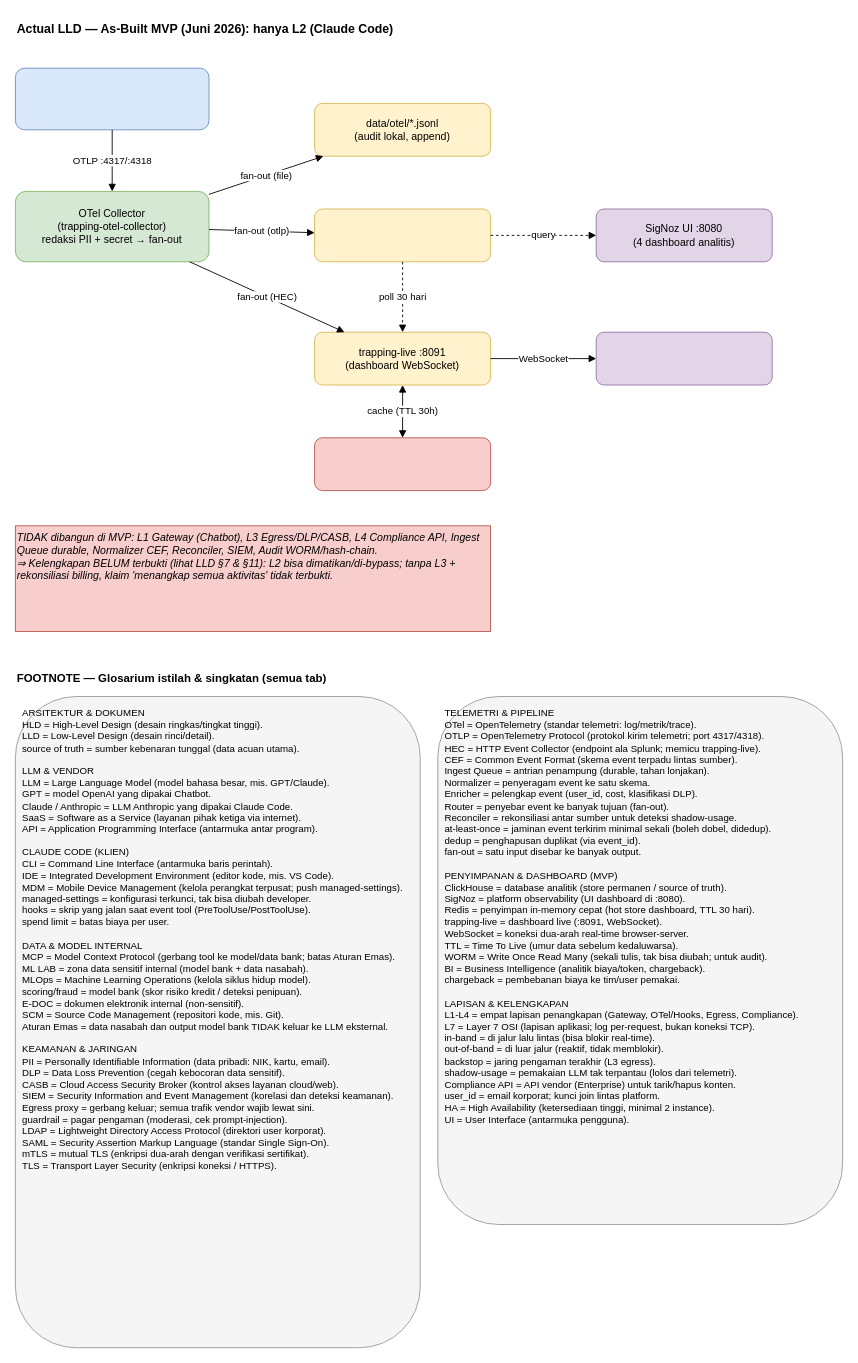
Image size: 858x1363. Some labels were removed from this diagram. The centre of each missing label's shape, as x and y in pixels:
"Browser (user → sesi → prompt)" belongs at (683,358).
"Claude Code CLI (managed-settings.json + hooks/trap.mjs)" belongs at (112,98).
"ClickHouse / SigNoz (store permanen / source of truth)" belongs at (402,235).
"Redis :6379 (hot store, TTL 30 hari)" belongs at (402,464).
